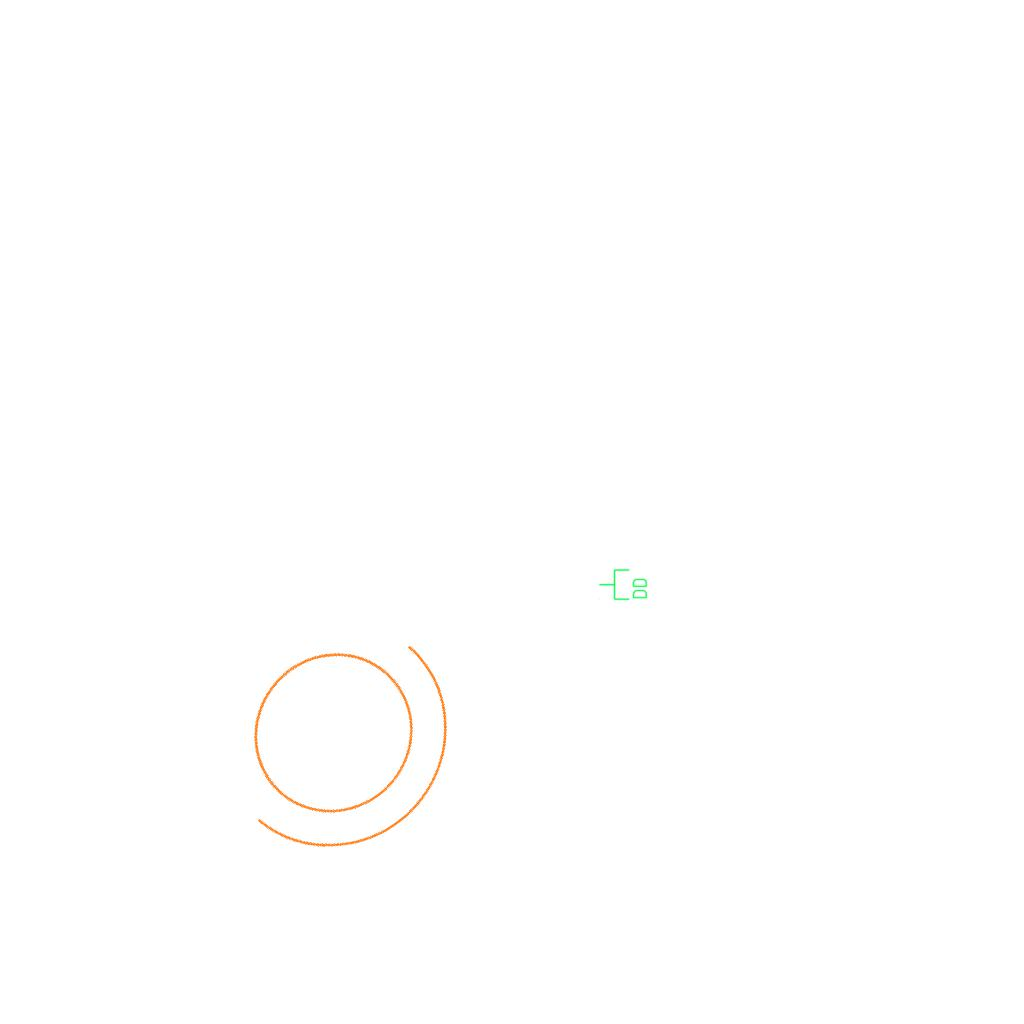Datenanschluss_zweifach: (598, 568, 649, 602)
Scheinwerfer_fuer_Alarmbeleuchtung: (173, 561, 517, 908)
